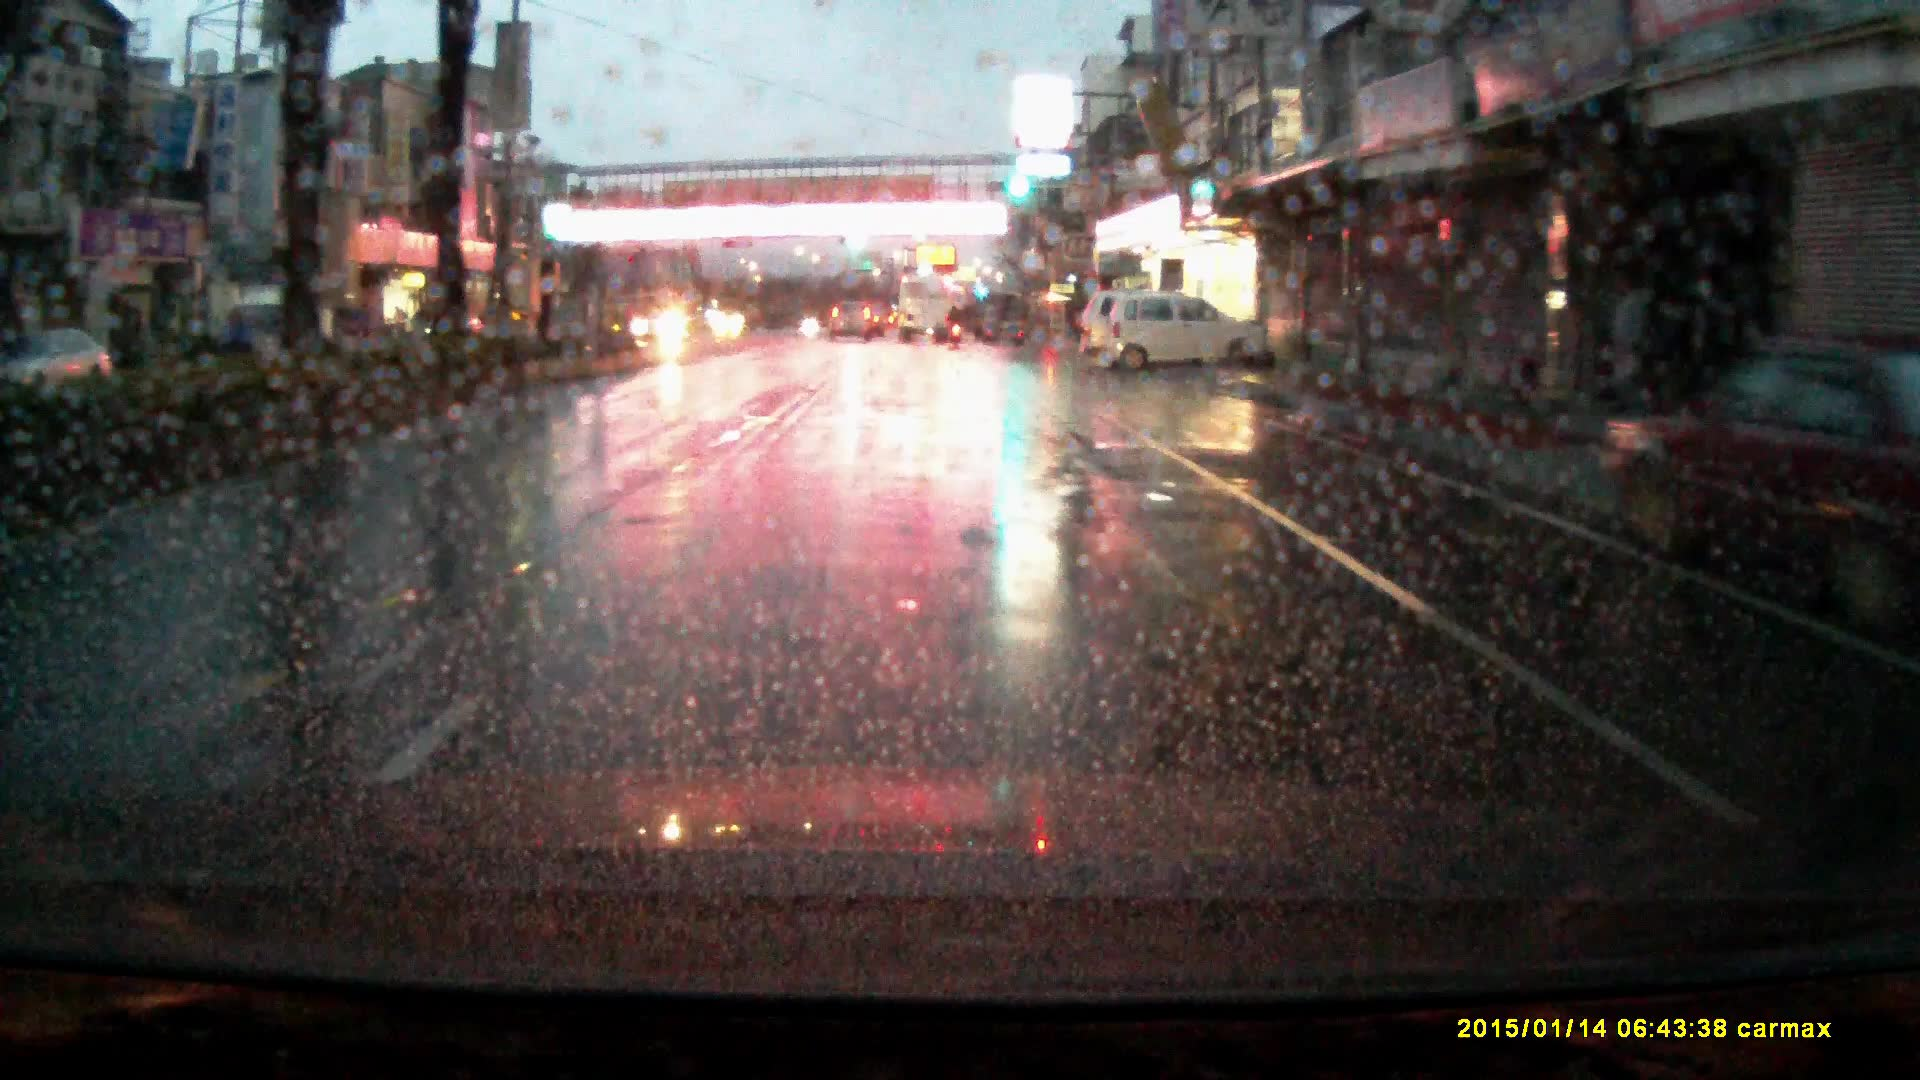rider: (946, 304, 966, 348)
vehicle: (1602, 342, 1920, 585), (1103, 290, 1271, 374), (1, 326, 118, 403), (214, 287, 318, 361), (1079, 290, 1169, 363), (630, 291, 700, 344), (899, 275, 951, 344), (830, 299, 875, 344)
